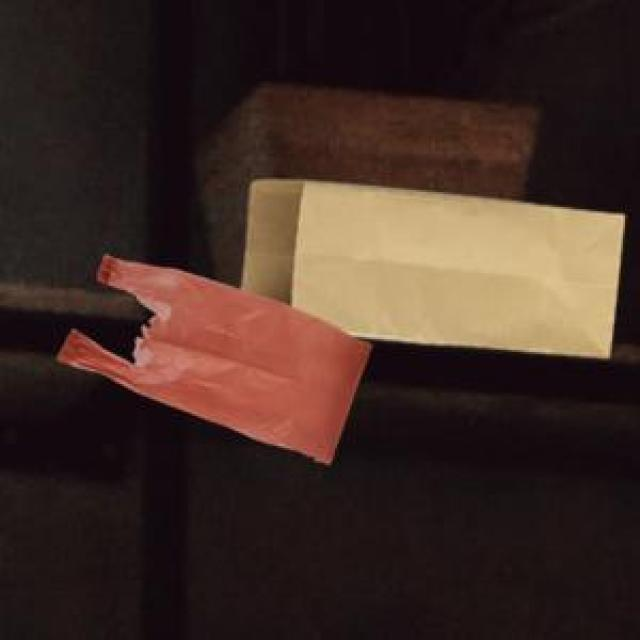paper: (237, 175, 620, 354)
